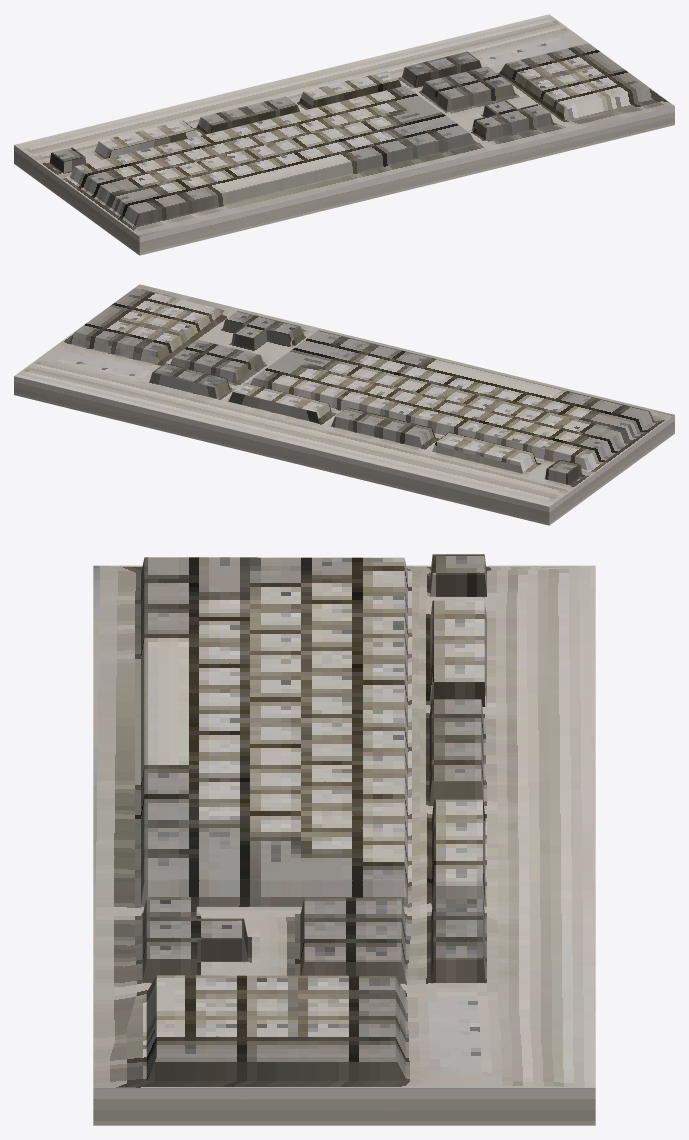
The model's file is keyboard.glb.
3 renders of one model, top to bottom at view 1: azimuth 30°, elevation 25°; view 2: azimuth 150°, elevation 25°; view 3: azimuth 270°, elevation 25°, orthographic. The views are drawn at different scales.
Parts seen in each view (by area): view 1: keyboard; view 2: keyboard; view 3: keyboard.
Boxes of the visible parts, left/top/right/bottom form: keyboard: left=14, top=14, right=674, bottom=255; keyboard: left=14, top=284, right=674, bottom=525; keyboard: left=93, top=554, right=595, bottom=1125.
Size of the model in its own units: 0.4355 by 0.0226 by 0.177.
1 material, 1 textured.
